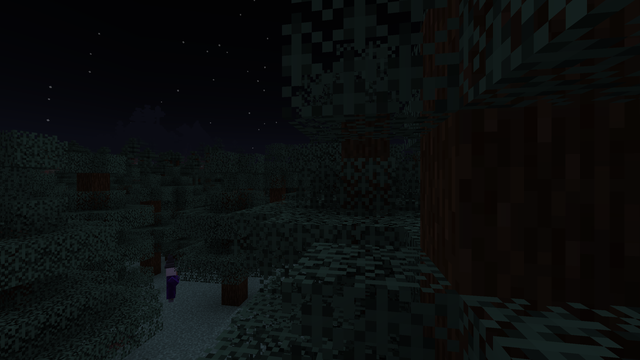sorcieres: (162, 262, 179, 302)
